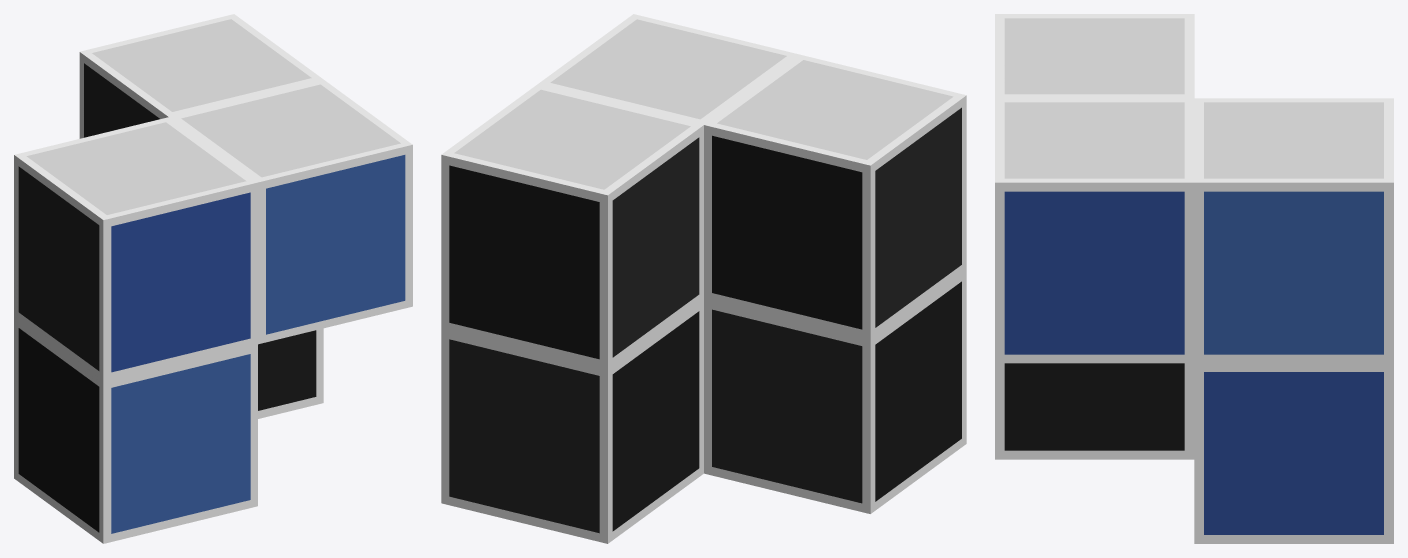
The model's file is marmelab1.gltf.
3 renders of one model, left to right at view 1: azimuth 30°, elevation 25°; view 2: azimuth 150°, elevation 25°; view 3: azimuth 270°, elevation 25°, orthographic. The views are drawn at different scales.
Parts seen in each view (by area): view 1: Cube; view 2: Cube; view 3: Cube.
Boxes of the visible parts, x1,y1,x2,y2 form: Cube: (14,14,412,543); Cube: (441,14,966,543); Cube: (995,14,1393,543).
Size of the model in its own units: 4 by 4 by 4.
